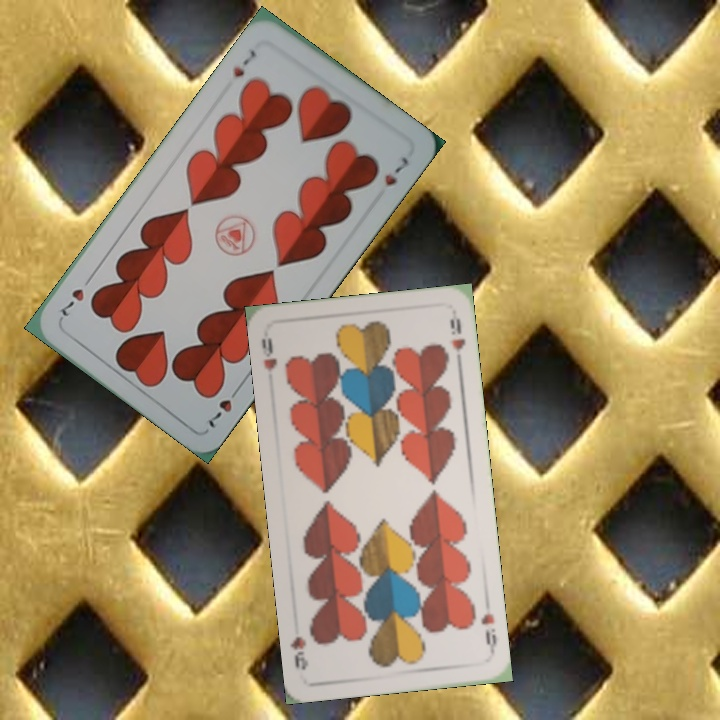H7: (204, 381, 244, 431), (228, 45, 260, 80)
H9: (477, 609, 500, 657), (257, 334, 280, 374)
